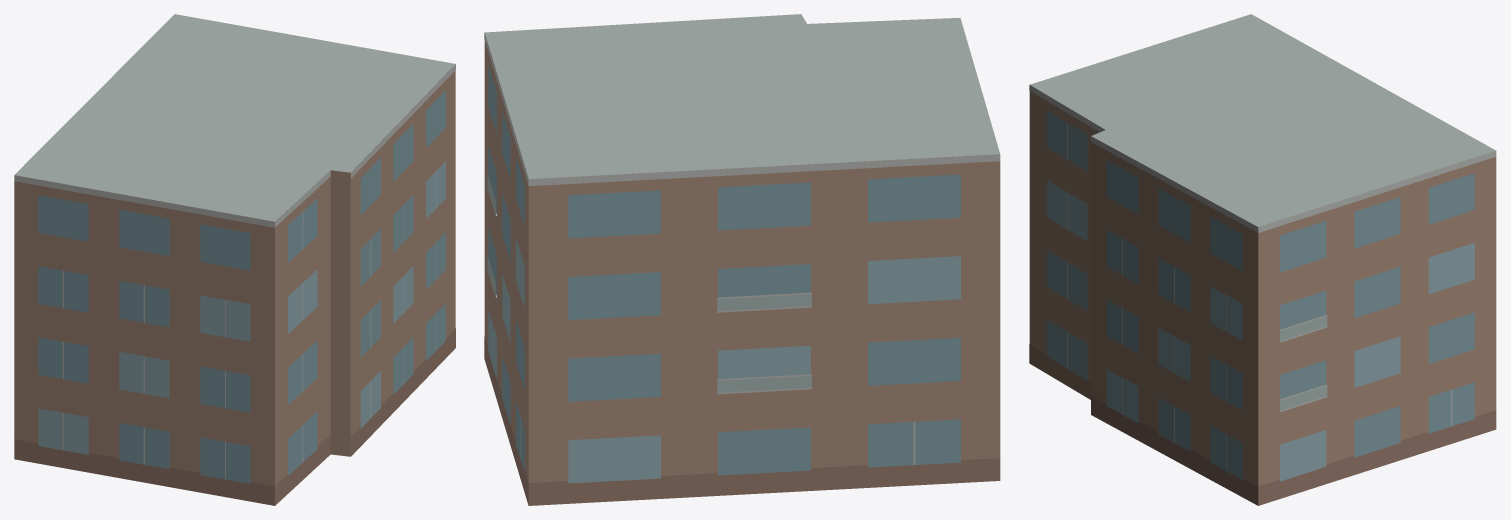
The model's file is survey-upis-32774501.glb.
The picture shows the model from 3 angles, left to right: view 1: azimuth 30°, elevation 25°; view 2: azimuth 150°, elevation 25°; view 3: azimuth 270°, elevation 25°; orthographic projection. The views are drawn at different scales.
Visible parts, largest first — view 1: survey-upis-32774501.tmp; view 2: survey-upis-32774501.tmp; view 3: survey-upis-32774501.tmp.
Part boxes in pixels (x1=…): survey-upis-32774501.tmp: x1=14, y1=14, x2=455, y2=505; survey-upis-32774501.tmp: x1=484, y1=14, x2=1000, y2=505; survey-upis-32774501.tmp: x1=1029, y1=14, x2=1496, y2=505.
Size of the model in its own units: 18.8 by 11.46 by 17.4.
